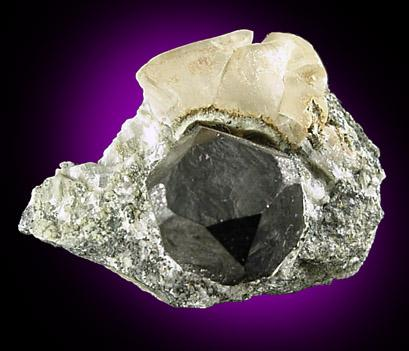magnetite: (148, 127, 306, 285)
